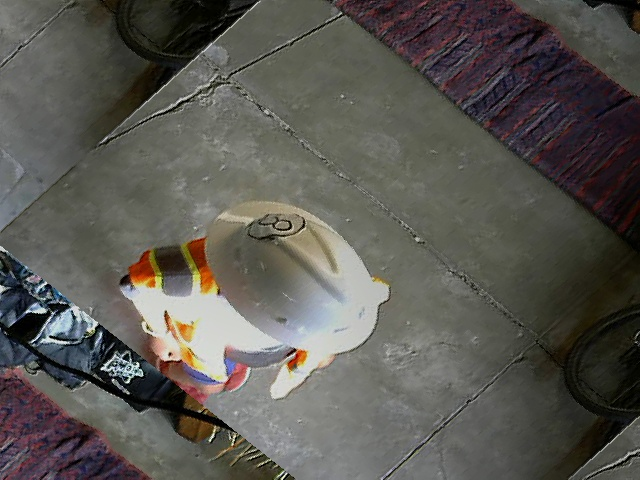eight: (242, 200, 305, 253)
